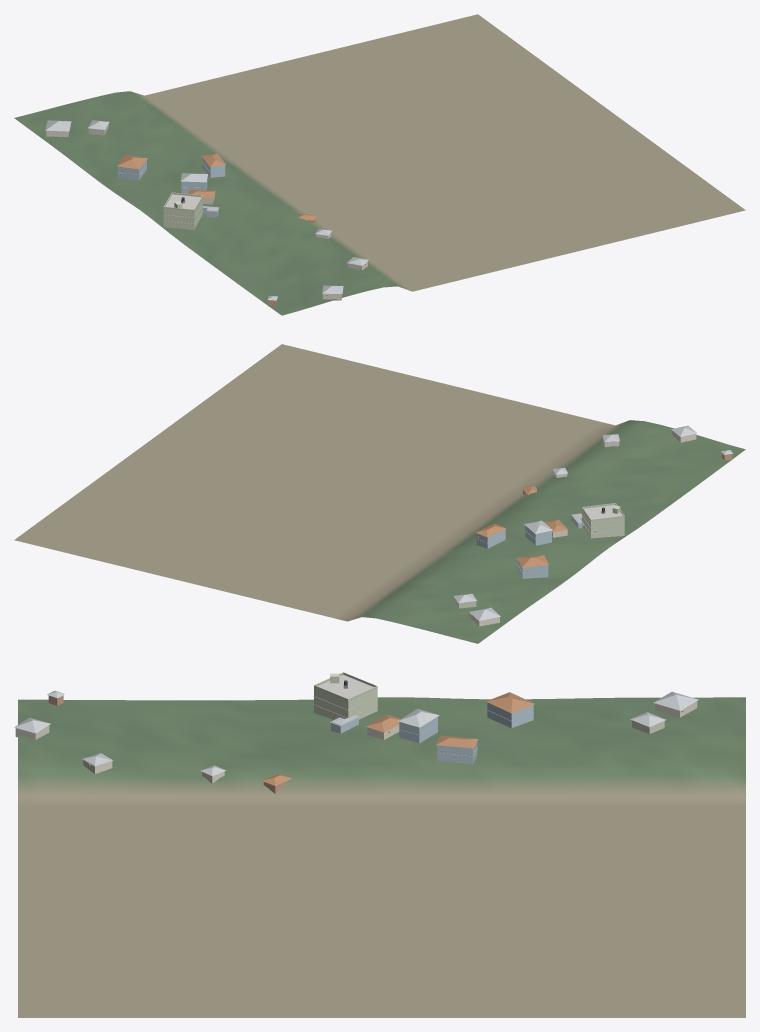
3 renders of one model, top to bottom at view 1: azimuth 30°, elevation 25°; view 2: azimuth 150°, elevation 25°; view 3: azimuth 270°, elevation 25°, orthographic. The views are drawn at different scales.
Visible parts, largest first — view 1: Terrain-col, Buildings-col, Details; view 2: Terrain-col, Buildings-col, Details; view 3: Terrain-col, Buildings-col, Details.
Part boxes in pixels (bbox=[...]): Terrain-col: bbox=[14, 14, 745, 315]; Buildings-col: bbox=[45, 120, 368, 306]; Details: bbox=[117, 162, 366, 295]; Terrain-col: bbox=[14, 344, 745, 643]; Buildings-col: bbox=[453, 425, 733, 626]; Details: bbox=[470, 503, 624, 615]; Terrain-col: bbox=[18, 697, 745, 1017]; Buildings-col: bbox=[14, 674, 698, 793]; Details: bbox=[88, 672, 683, 765].
Size of the model in its own units: 257 by 17.06 by 257.
